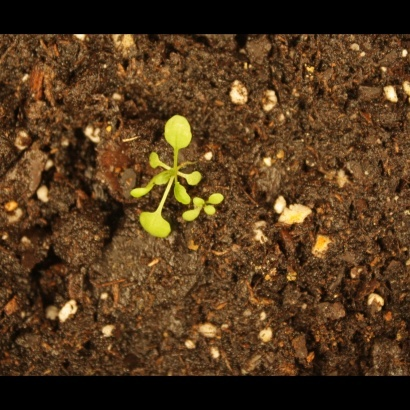leaf: (160, 110, 198, 156), (136, 207, 175, 243), (127, 179, 155, 205), (167, 178, 190, 206), (183, 163, 207, 186), (180, 207, 203, 230), (207, 183, 230, 206), (204, 207, 227, 230), (189, 190, 212, 213), (142, 146, 165, 169), (153, 167, 176, 190)
